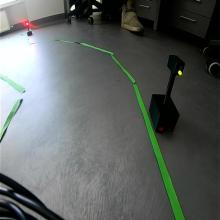green: (167, 54, 186, 76)
